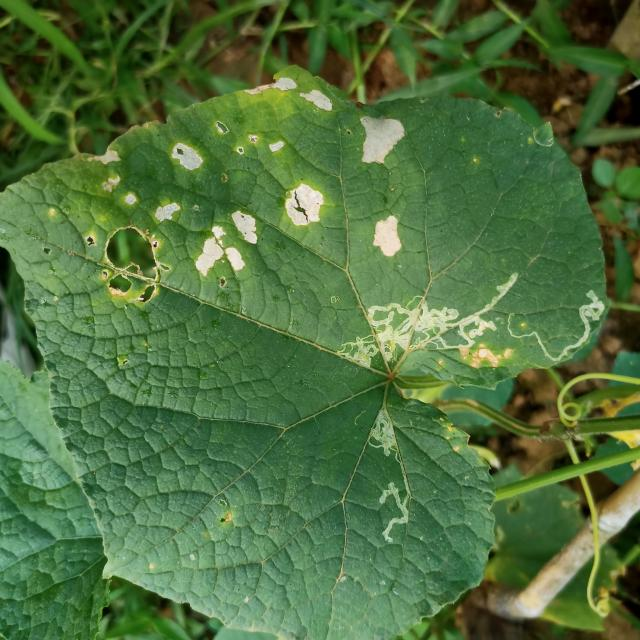disease_cucumber: (81, 72, 337, 314), (352, 105, 414, 175), (367, 207, 407, 266)
